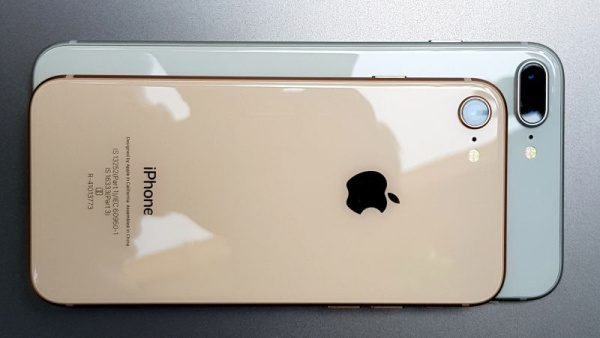apple: (330, 160, 407, 227)
